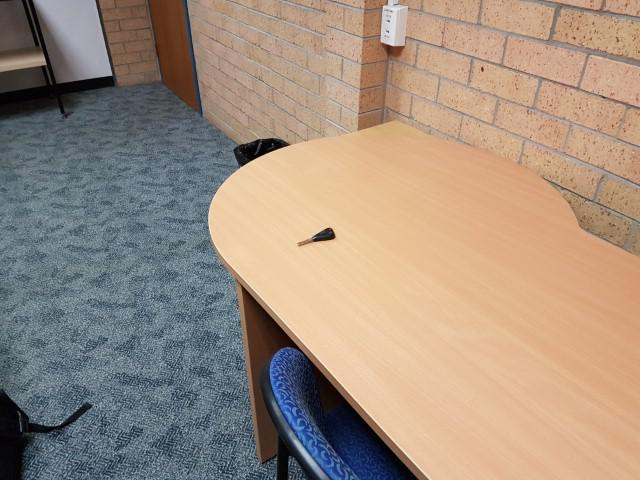key: (297, 228, 336, 246)
